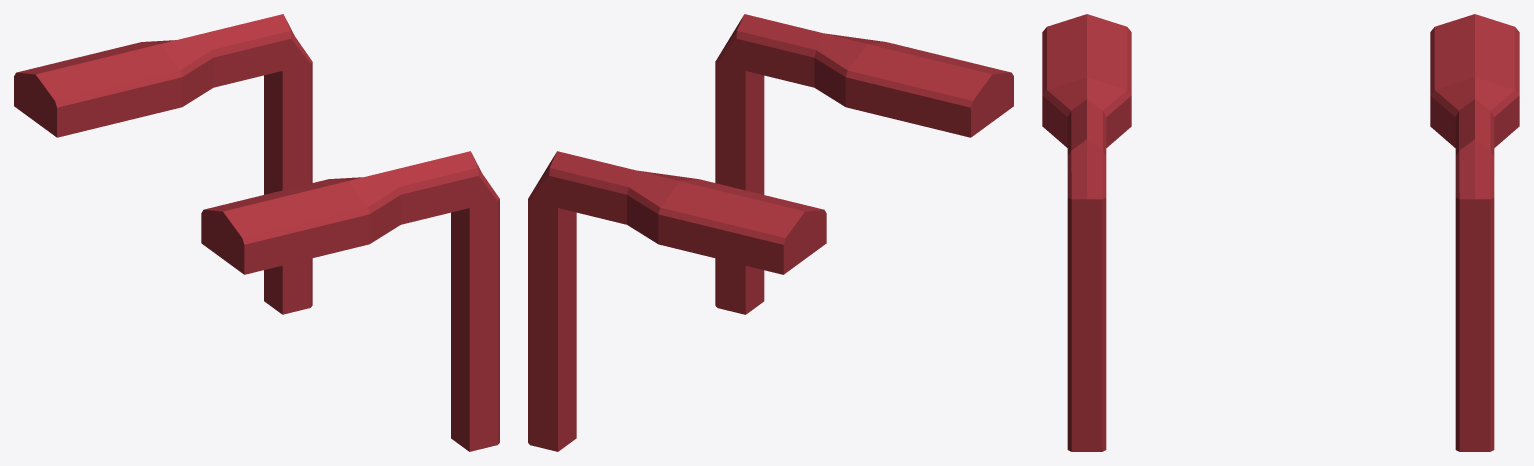
Rendered from Side_Rails.fbx.
3 renders of one model, left to right at view 1: azimuth 30°, elevation 25°; view 2: azimuth 150°, elevation 25°; view 3: azimuth 270°, elevation 25°, orthographic. The views are drawn at different scales.
Visible parts, largest first — view 1: Cube.001; view 2: Cube.001; view 3: Cube.001.
Part boxes in pixels (box(x1,y1,x2,y2)): Cube.001: box(14, 14, 499, 451); Cube.001: box(528, 14, 1013, 451); Cube.001: box(1042, 14, 1519, 451).
Bounding box in the file's own units: 1665 × 1720 × 2465.
